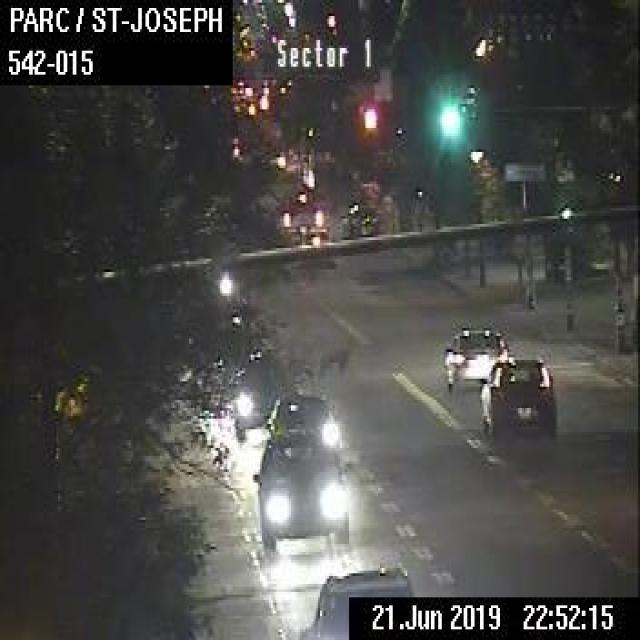vehicle: (249, 437, 354, 549), (311, 560, 413, 637), (478, 356, 555, 437), (230, 356, 297, 438), (262, 390, 339, 445), (442, 326, 509, 387), (339, 200, 377, 234)
